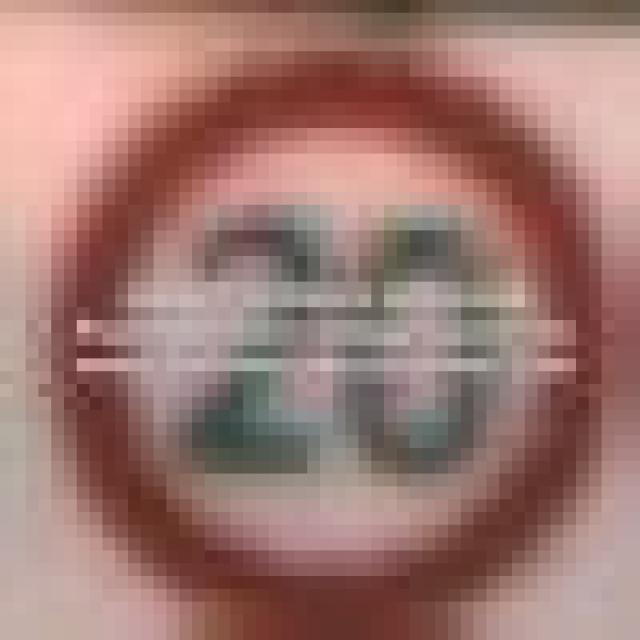road_slippery: (38, 39, 628, 602)
